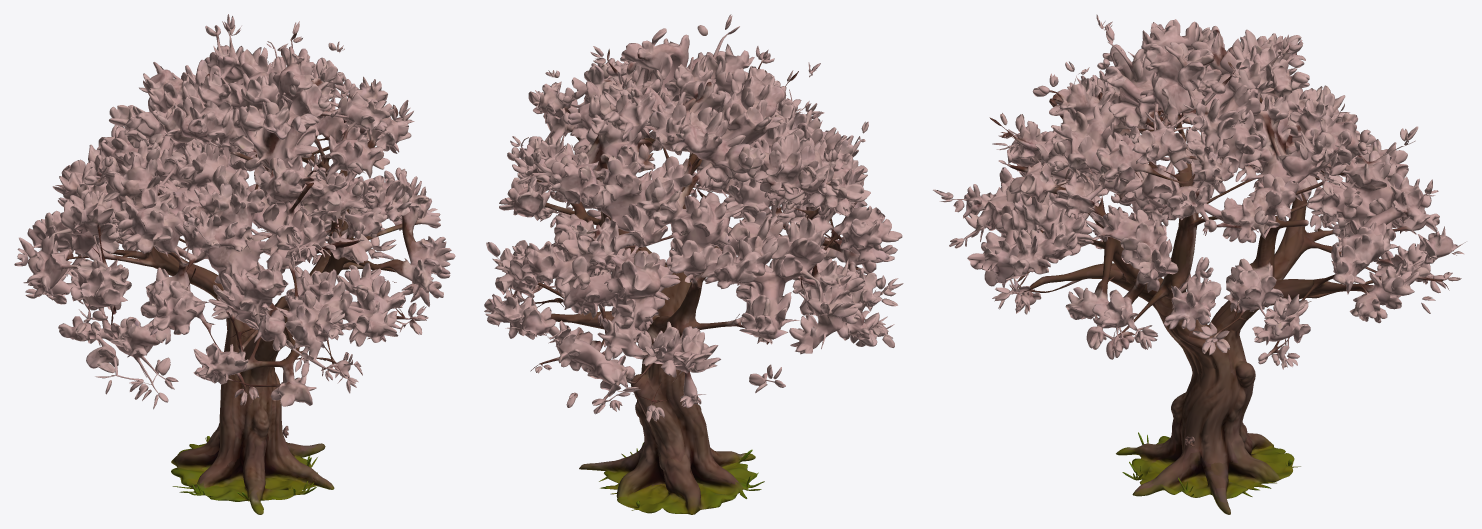
File: lily-cherry-tree.glb
3 renders of one model, left to right at view 1: azimuth 30°, elevation 25°; view 2: azimuth 150°, elevation 25°; view 3: azimuth 270°, elevation 25°, orthographic. The views are drawn at different scales.
Visible parts, largest first — view 1: tripo_node_876d39c6-4d19-4885-b50f-babfc8e96826; view 2: tripo_node_876d39c6-4d19-4885-b50f-babfc8e96826; view 3: tripo_node_876d39c6-4d19-4885-b50f-babfc8e96826.
Part boxes in pixels (box(x1,y1,x2,y2)): tripo_node_876d39c6-4d19-4885-b50f-babfc8e96826: box(14, 14, 455, 514); tripo_node_876d39c6-4d19-4885-b50f-babfc8e96826: box(484, 14, 903, 514); tripo_node_876d39c6-4d19-4885-b50f-babfc8e96826: box(933, 14, 1466, 514).
Size of the model in its own units: 0.8486 by 0.9021 by 0.9818.
Materials: 1 (1 with a texture image).
